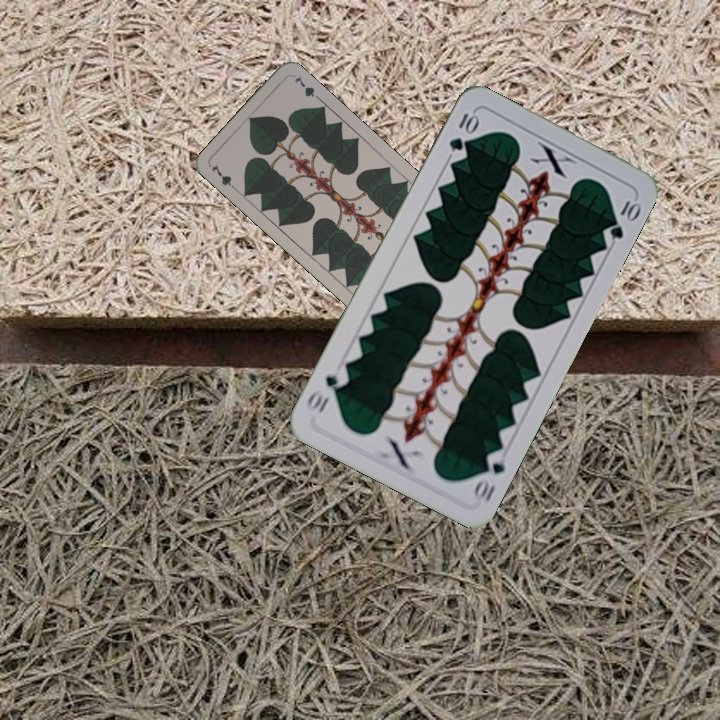G10: (468, 446, 509, 505), (444, 108, 481, 155)
G7: (207, 160, 241, 194)
